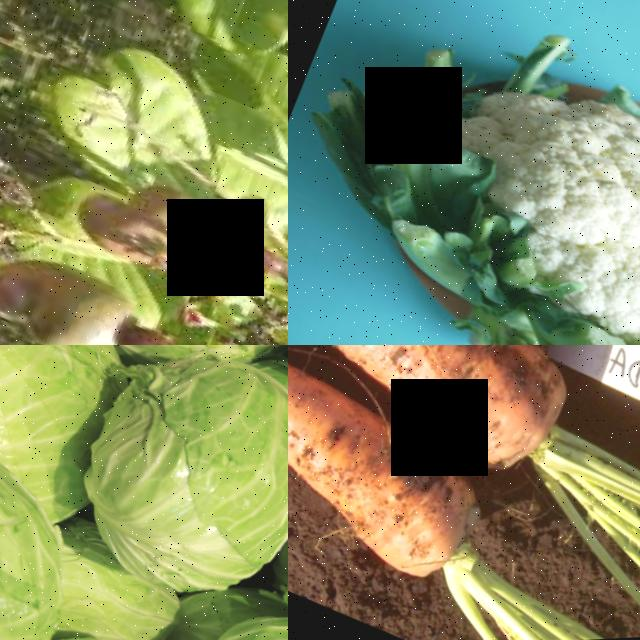cabbage: (59, 345, 288, 639), (0, 429, 114, 640)
carrot: (288, 345, 507, 623), (288, 345, 582, 478)
cashew: (64, 153, 217, 293), (0, 243, 138, 345)
cauliflower: (288, 0, 640, 345)
